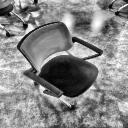chair_success: (15, 20, 109, 112)
